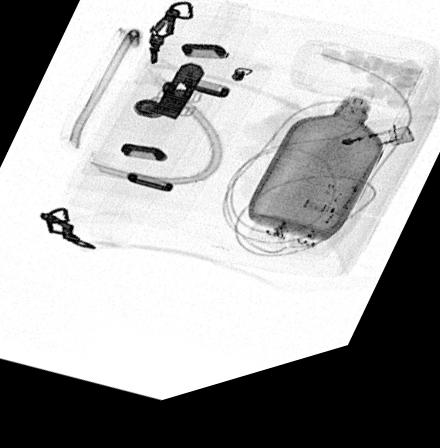Lighter: (314, 144, 415, 182)
